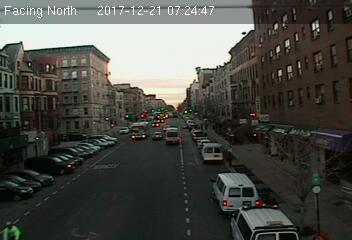bus: (129, 122, 149, 138)
car: (151, 131, 162, 139)
police: (232, 204, 302, 240)
truck: (211, 173, 259, 213), (202, 142, 223, 161), (164, 127, 180, 145)
